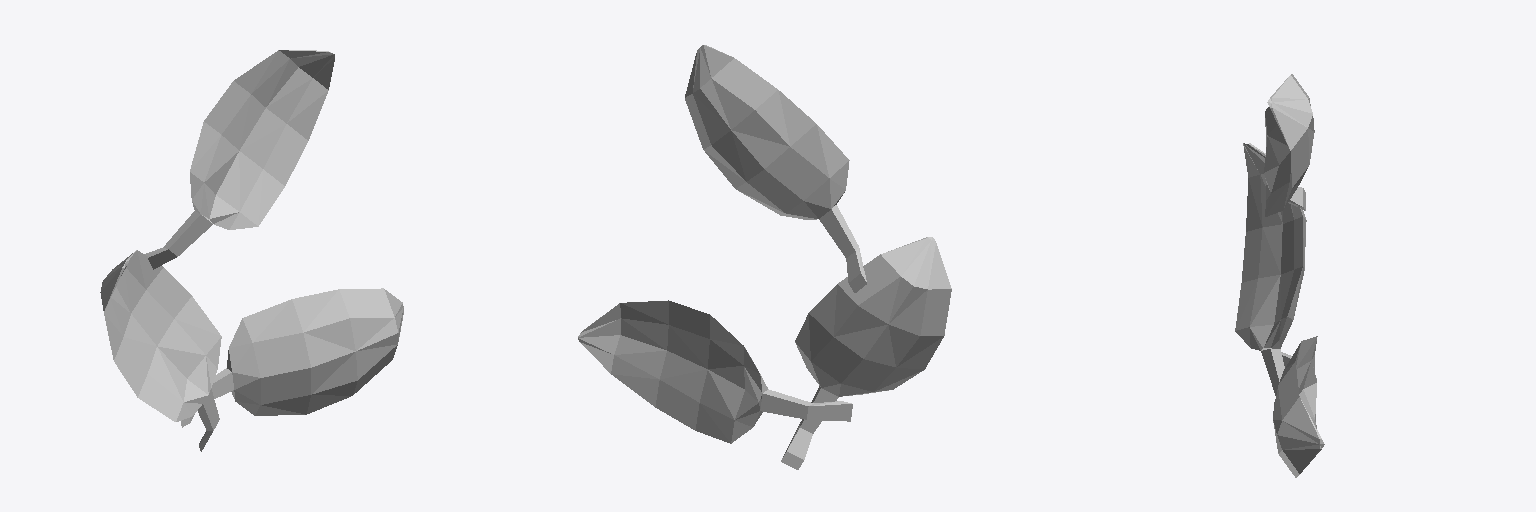
The model's file is nest_bed_0.obj.
3 renders of one model, left to right at view 1: azimuth 30°, elevation 25°; view 2: azimuth 150°, elevation 25°; view 3: azimuth 270°, elevation 25°, orthographic.
Parts seen in each view (by area): view 1: Leaf_3.001_Cube.004, Leaf_2.001_Cube.005, Leaf_1.001_Cube.006; view 2: Leaf_3.001_Cube.004, Leaf_2.001_Cube.005, Leaf_1.001_Cube.006; view 3: Leaf_1.001_Cube.006, Leaf_3.001_Cube.004, Leaf_2.001_Cube.005.
Boxes of the visible parts, <box> form: Leaf_3.001_Cube.004: <box>145,50,334,269</box>; Leaf_2.001_Cube.005: <box>181,288,403,427</box>; Leaf_1.001_Cube.006: <box>100,250,221,451</box>; Leaf_3.001_Cube.004: <box>685,45,866,292</box>; Leaf_2.001_Cube.005: <box>578,300,852,443</box>; Leaf_1.001_Cube.006: <box>781,237,951,469</box>; Leaf_1.001_Cube.006: <box>1235,143,1306,395</box>; Leaf_3.001_Cube.004: <box>1264,74,1314,216</box>; Leaf_2.001_Cube.005: <box>1273,336,1324,477</box>.
Size of the model in its own units: 0.8539 by 0.9473 by 0.1974.